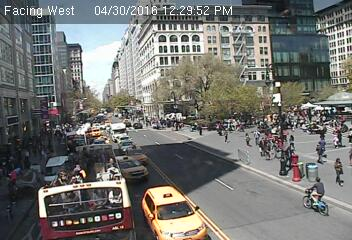neg: (302, 173, 334, 215), (52, 170, 68, 190), (67, 173, 80, 191)
pos: (329, 156, 350, 185), (314, 142, 327, 160), (242, 132, 253, 146), (196, 123, 205, 136), (221, 129, 230, 141), (320, 131, 328, 142), (287, 132, 295, 143), (334, 137, 339, 144)
